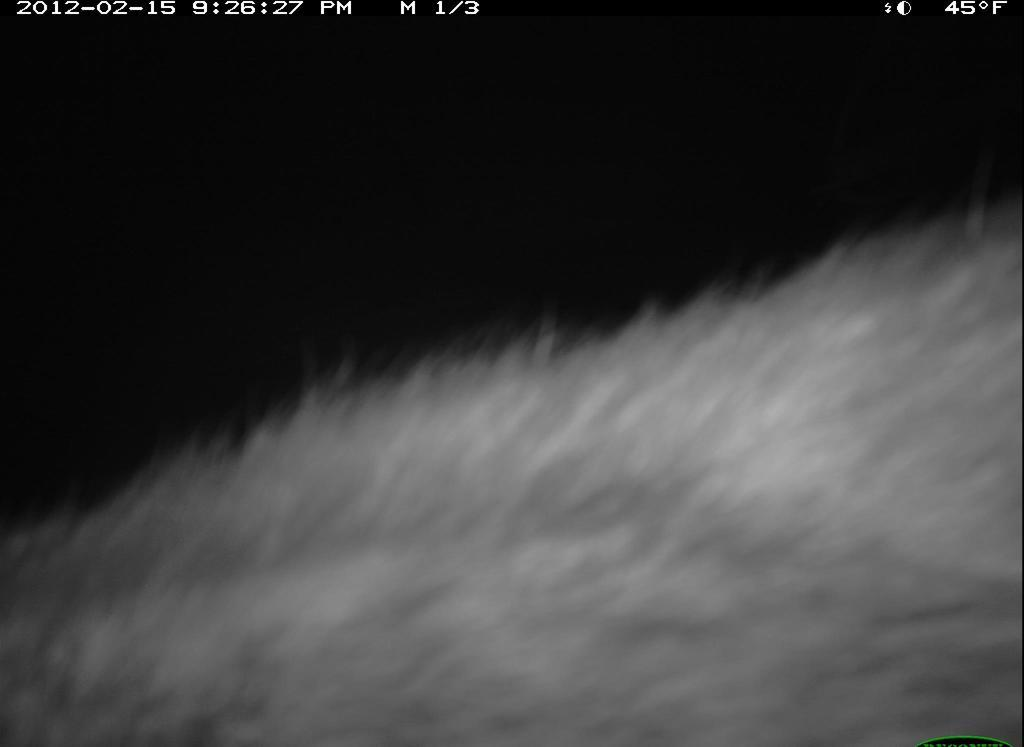raccoon: (3, 189, 1021, 747)
